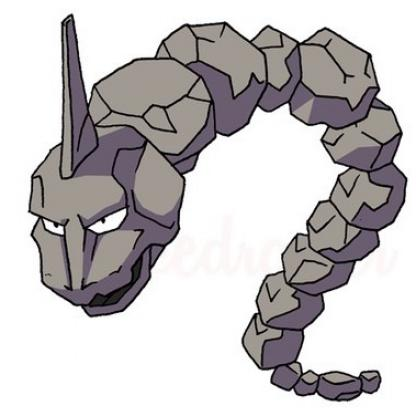Onix: (31, 6, 416, 416)
